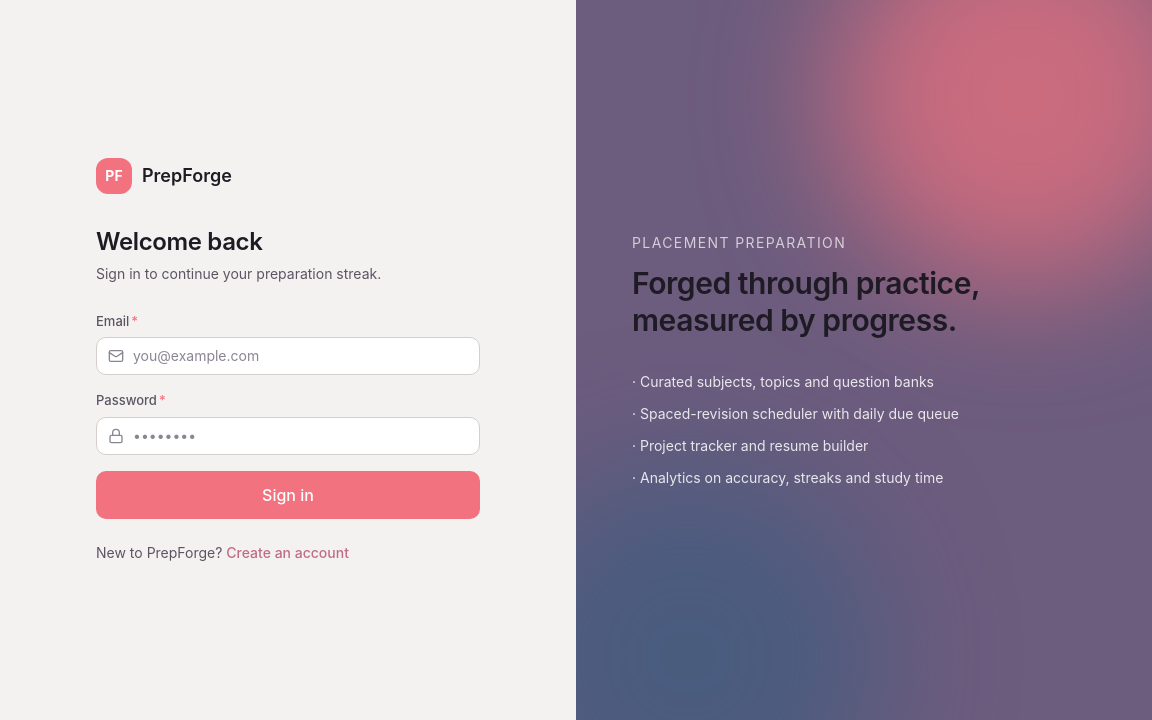
LoginPage › shows a validation error for an invalid email
The width and height of the screenshot is (1152, 720).
Type "not-an-email" into the field labelled "Email*" at (288, 356), box [96,337,480,375]
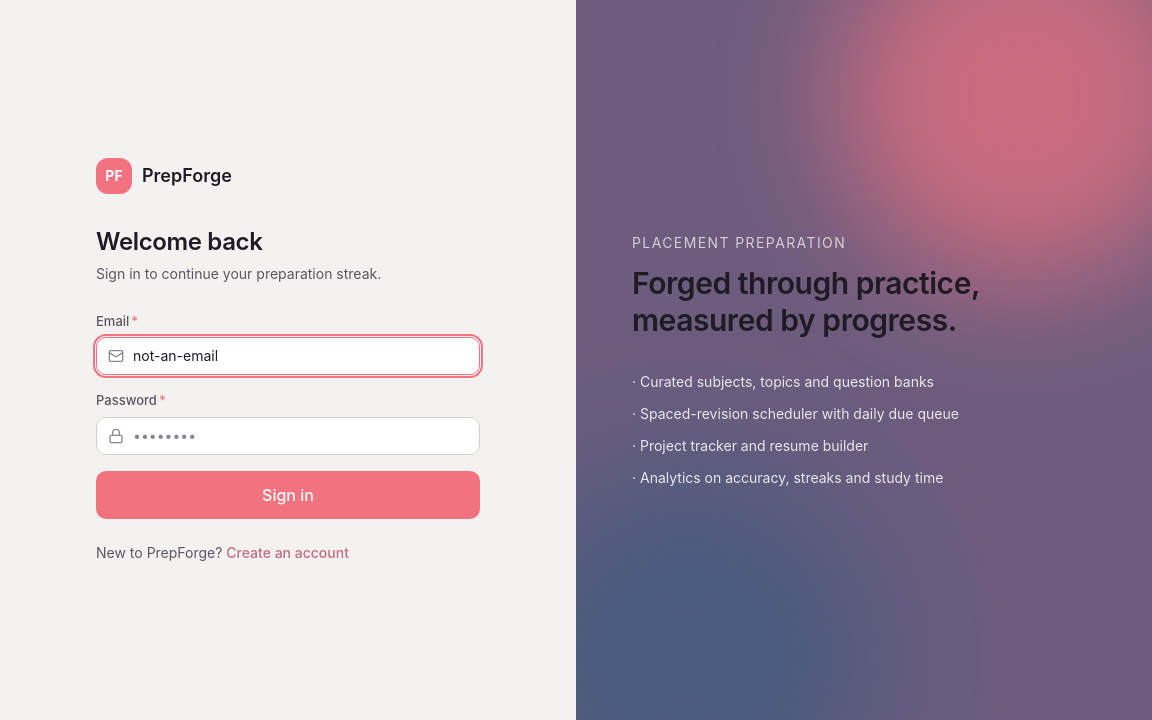
Type "password123" into the password field labelled "Password*" at (288, 436), box [96,416,480,454]
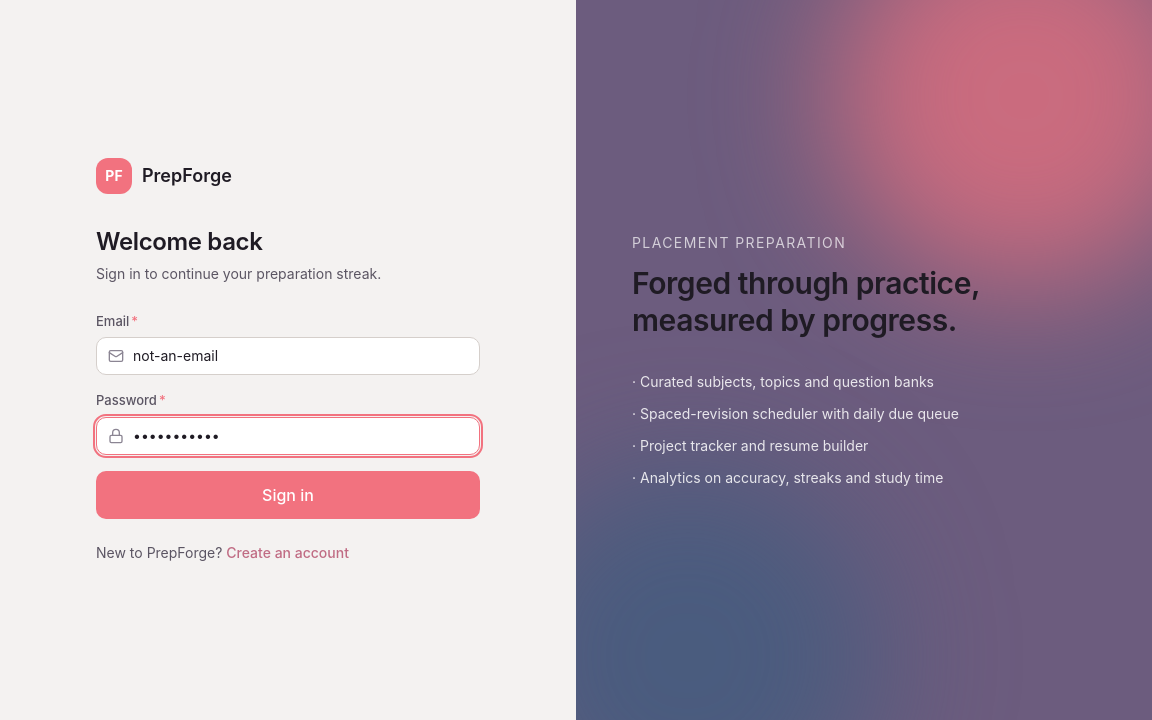
Click the button "Sign in" at (288, 494), box [96,470,480,518]
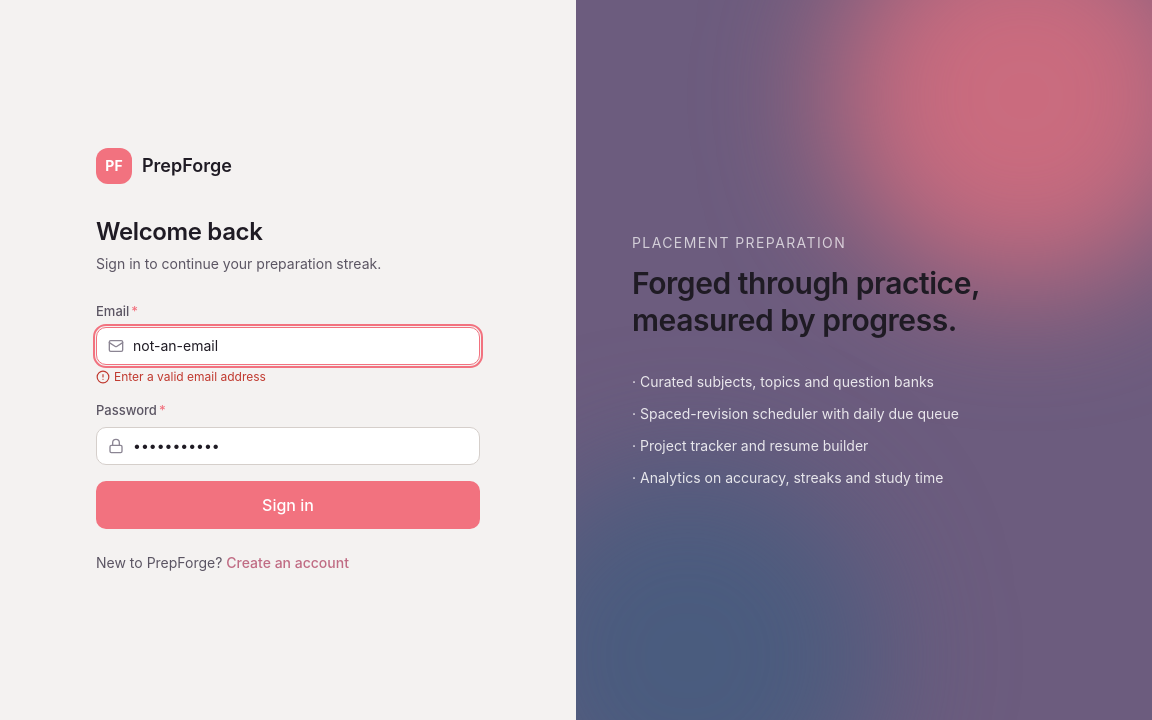
Expected: the text "Enter a valid email address" is shown, [96,369,266,384]
